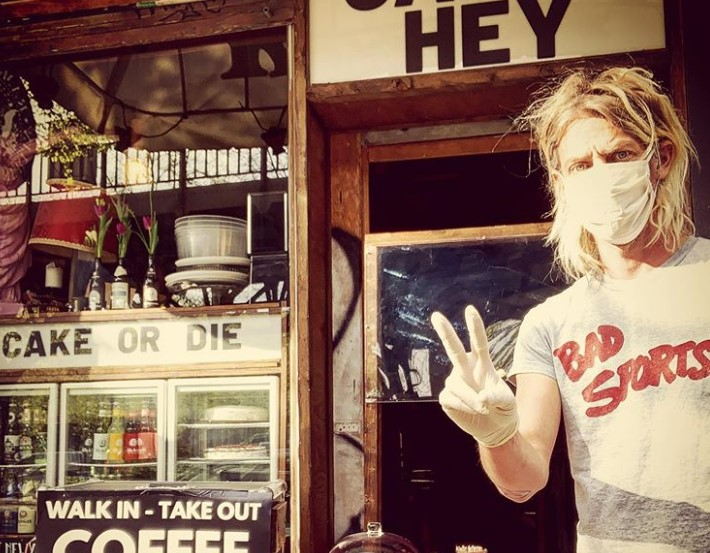face_with_mask: (537, 71, 685, 256)
